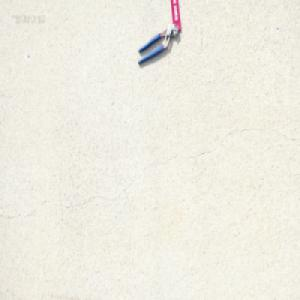Label: (170, 0, 181, 32)
Pliers: (137, 22, 179, 65)
